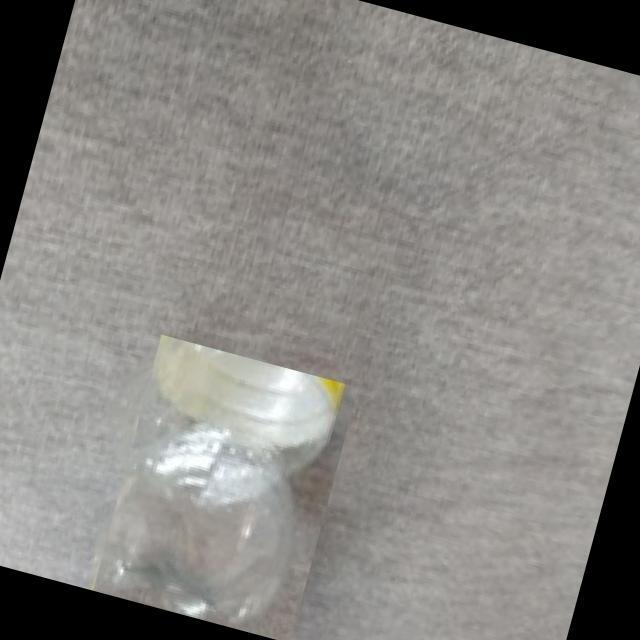good: (91, 333, 357, 640)
